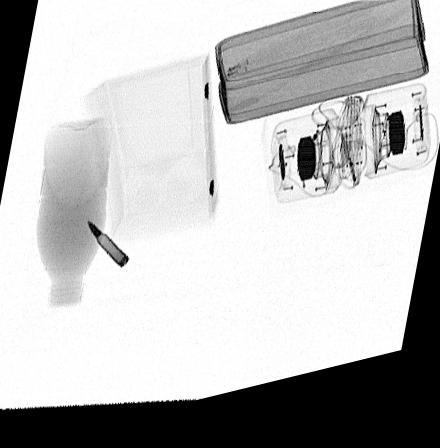Bullet: (86, 223, 129, 274)
